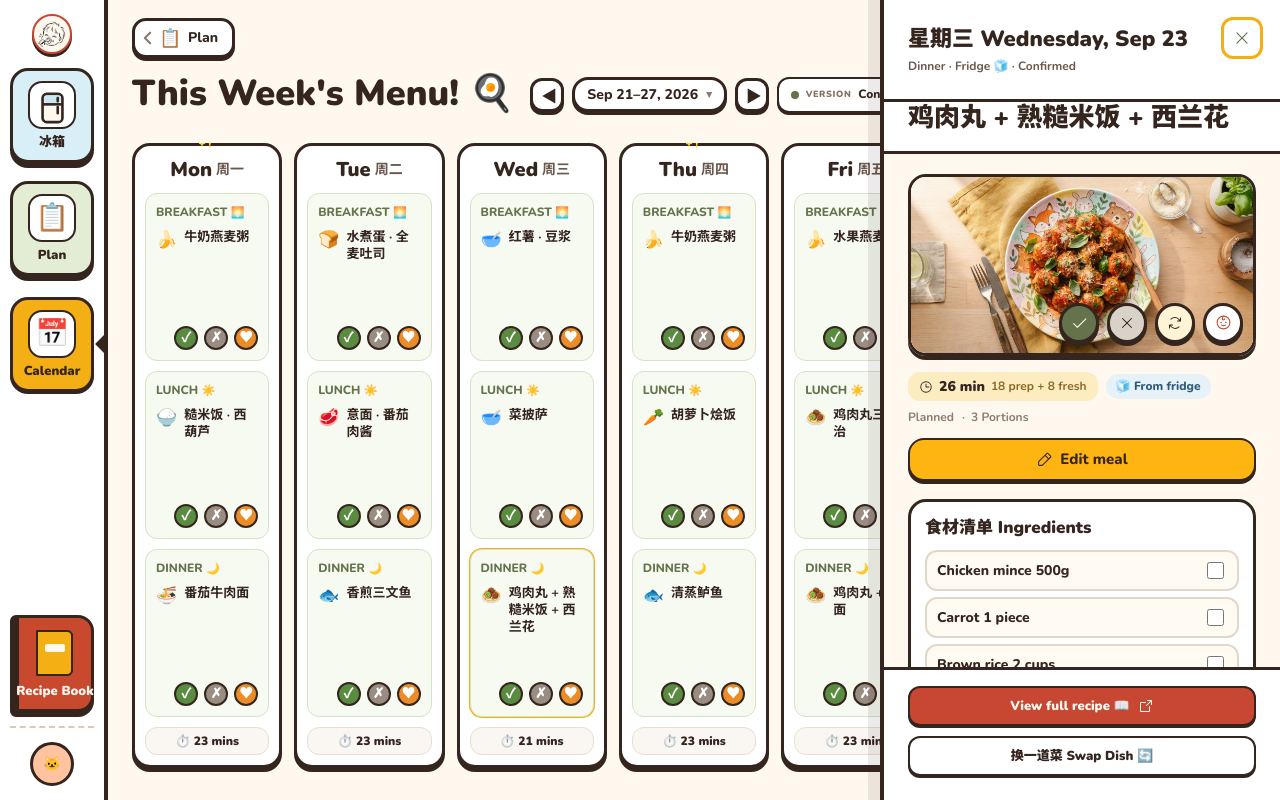
Test: kitchen workspace navigation and concurrency › discards a dirty deep-linked drawer and removes meal from its URL
Step 1. Click the button labelled "Edit meal" → [1082, 460], box [908,438,1256,481]
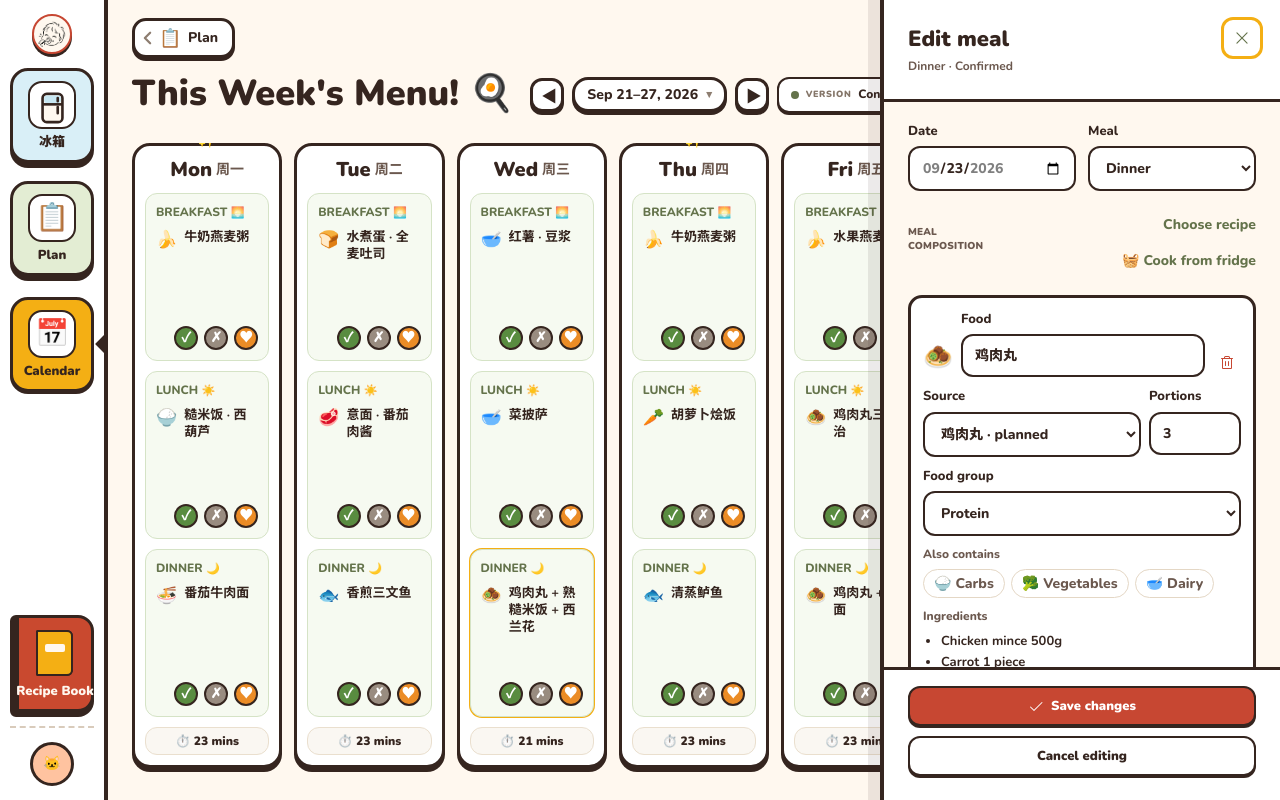
Step 2. Replace the text in the number field labelled "Portions" with "2" → [1195, 433], box [1149,412,1241,455]
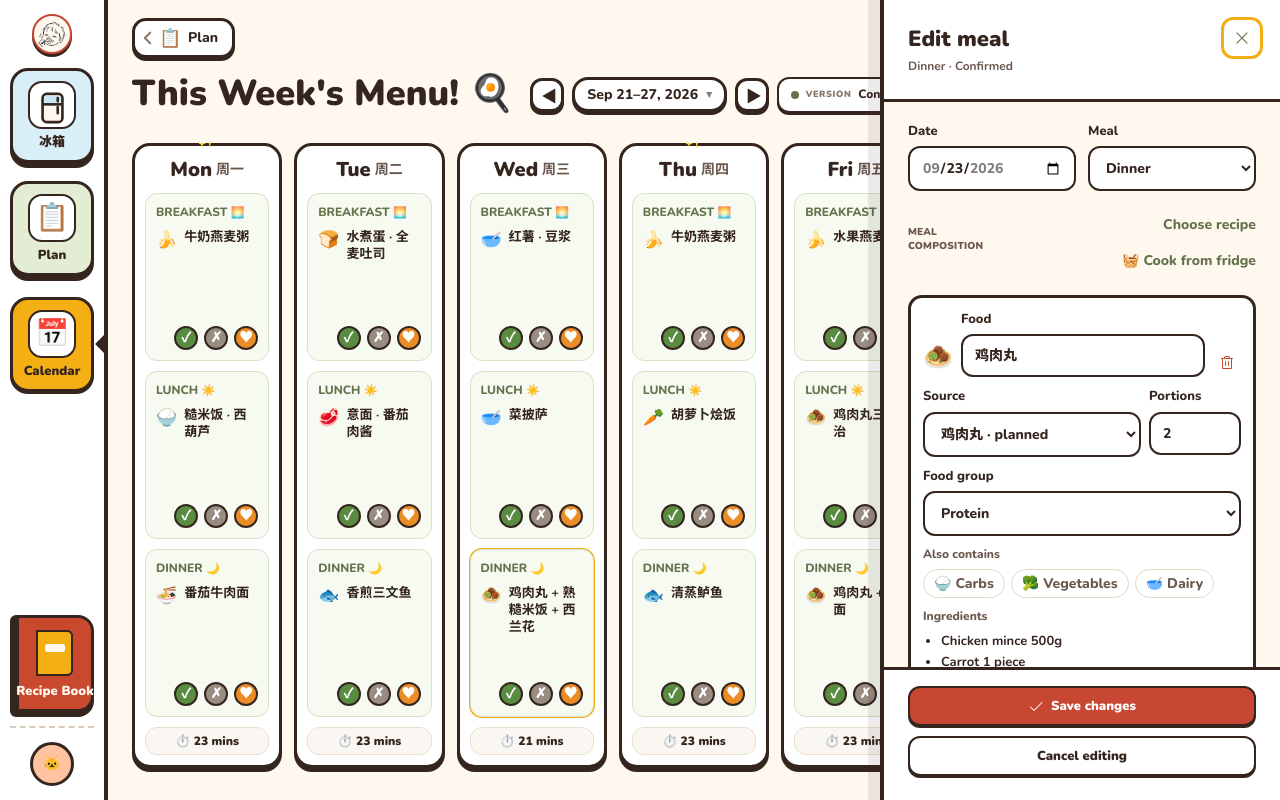
# The close button drops unsaved edits without asking.
Step 3. Click the button named "Close drawer" → [1242, 38], box [1228,24,1256,52]
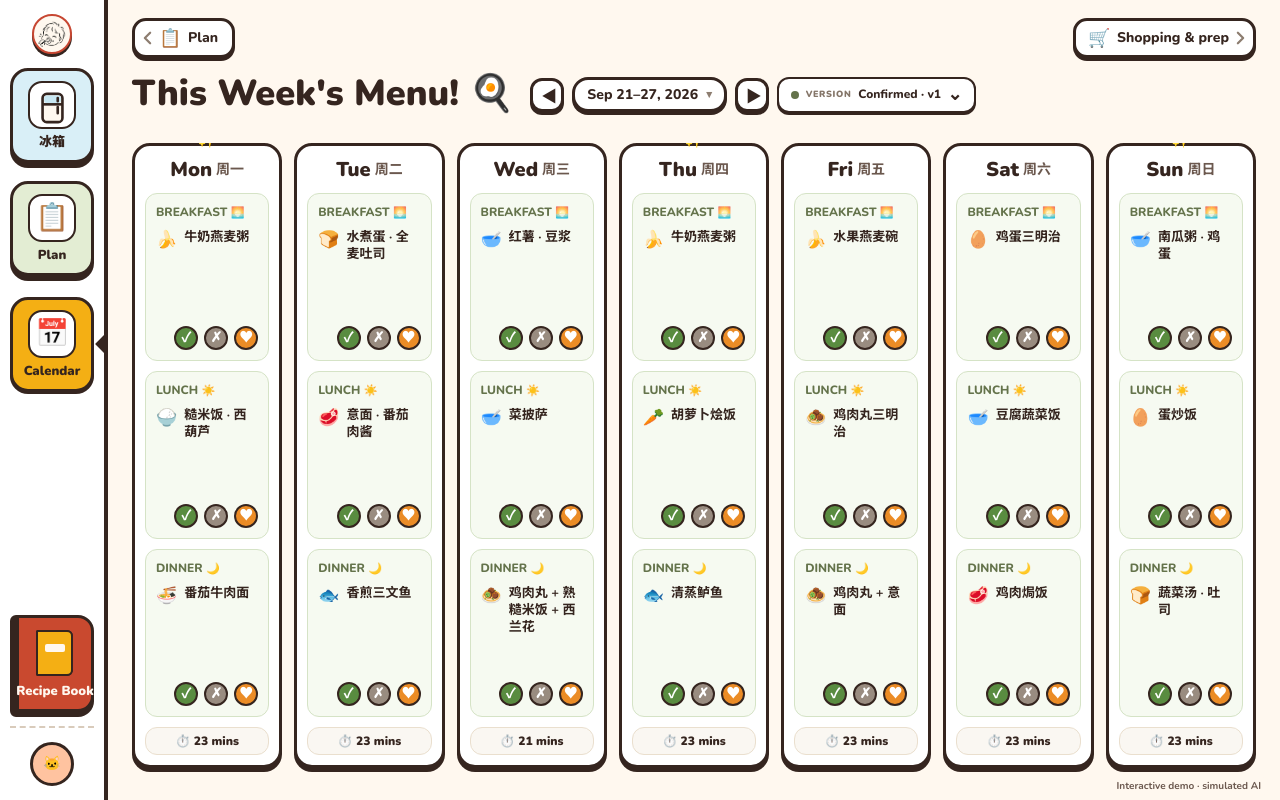
Expected: the dialog is gone
